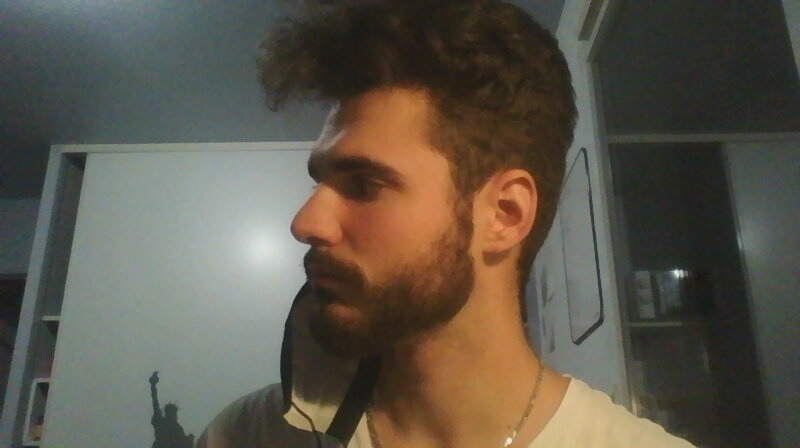with_incorrect_mask: (283, 87, 517, 373)
